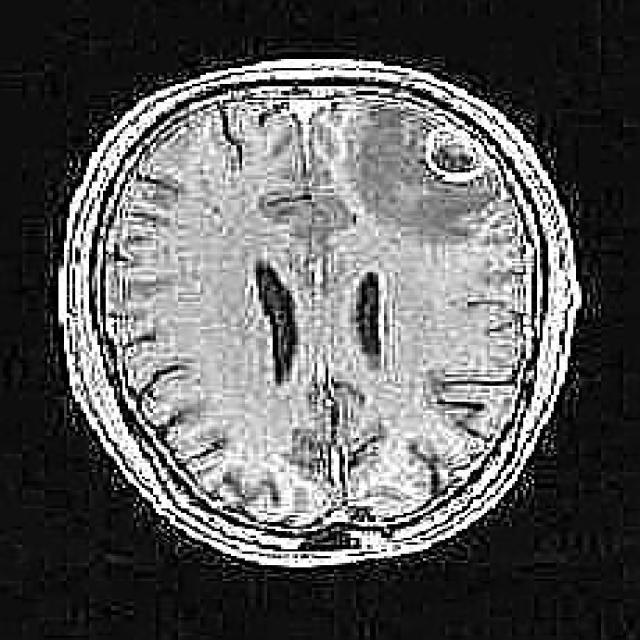notumor: (56, 66, 584, 572)
